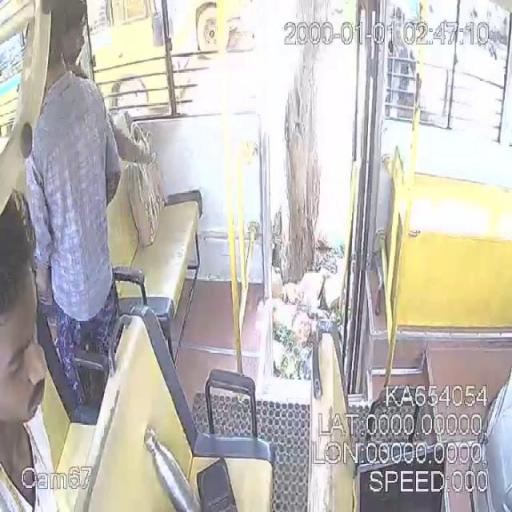persona: (18, 1, 125, 418), (0, 187, 60, 511)
